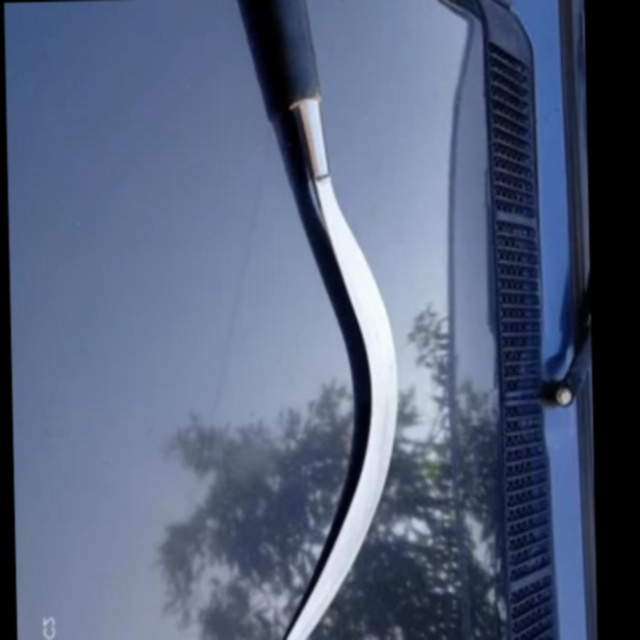Sharp-Object: (229, 3, 418, 640)
